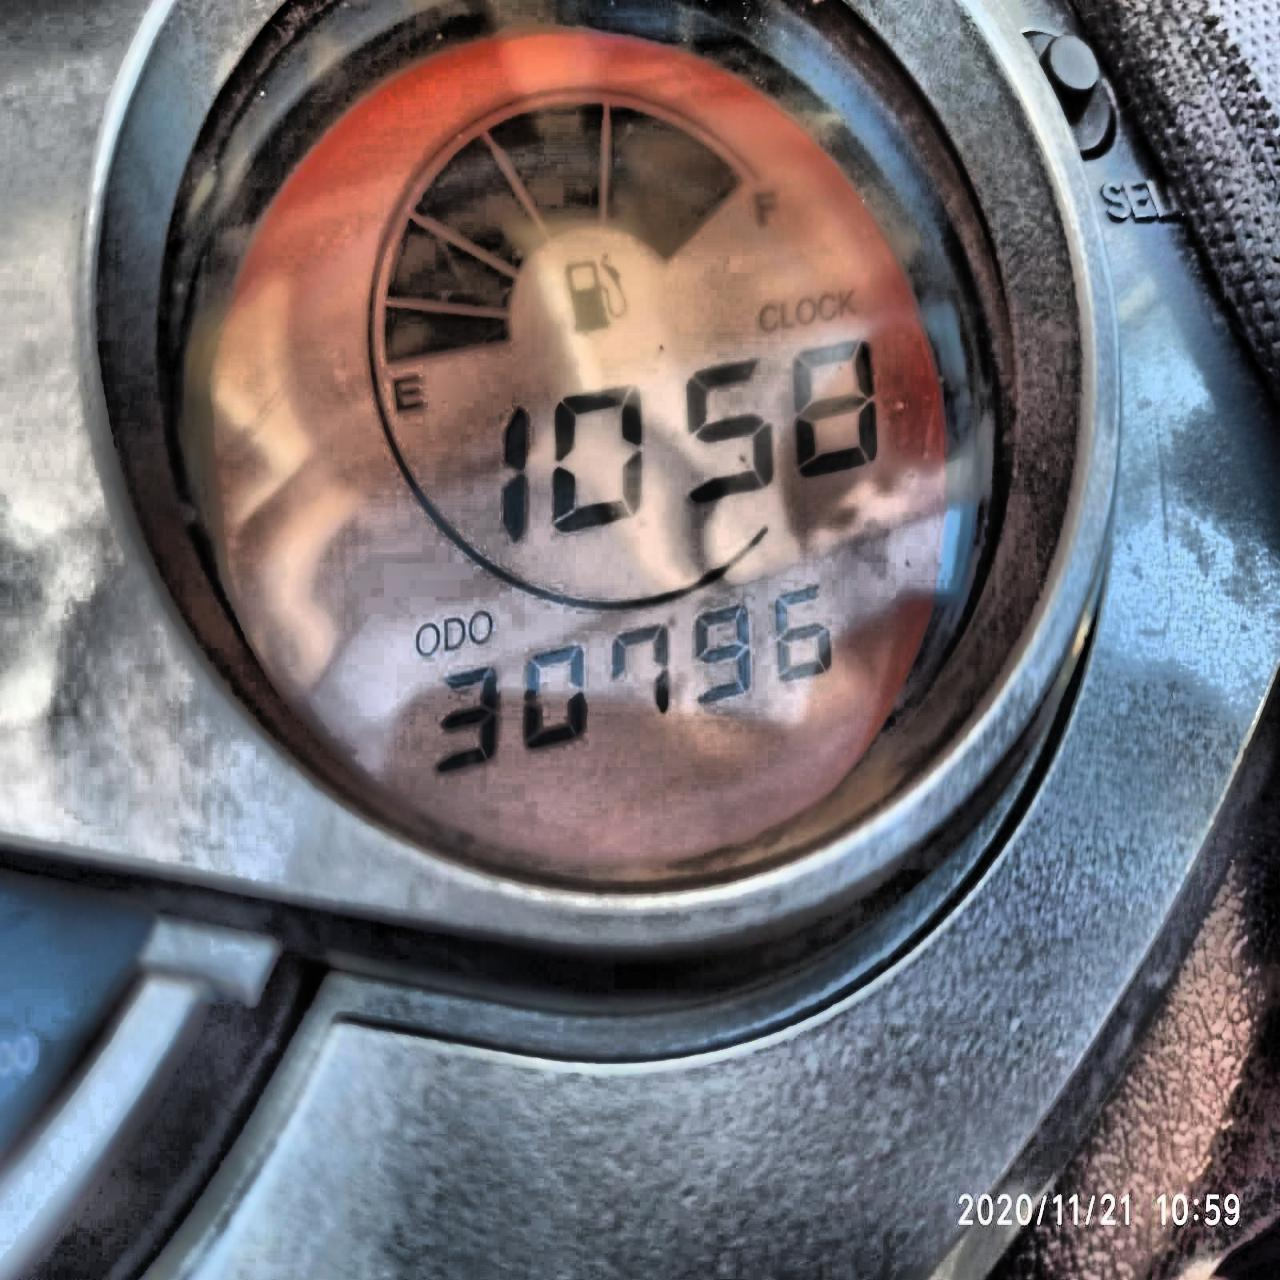0: (550, 377, 653, 544), (523, 642, 586, 750)
1: (493, 390, 535, 552)
3: (435, 666, 498, 772)
5: (682, 347, 776, 510)
6: (772, 583, 832, 685)
7: (611, 621, 669, 714)
8: (794, 338, 884, 485)
9: (694, 604, 751, 704)
X: (387, 368, 427, 416), (751, 185, 787, 230), (415, 619, 441, 656), (469, 608, 493, 645), (443, 615, 467, 651), (757, 301, 778, 334), (816, 290, 836, 324), (837, 286, 858, 318), (779, 298, 797, 333), (797, 294, 816, 327)
odometer: (179, 14, 994, 891)
